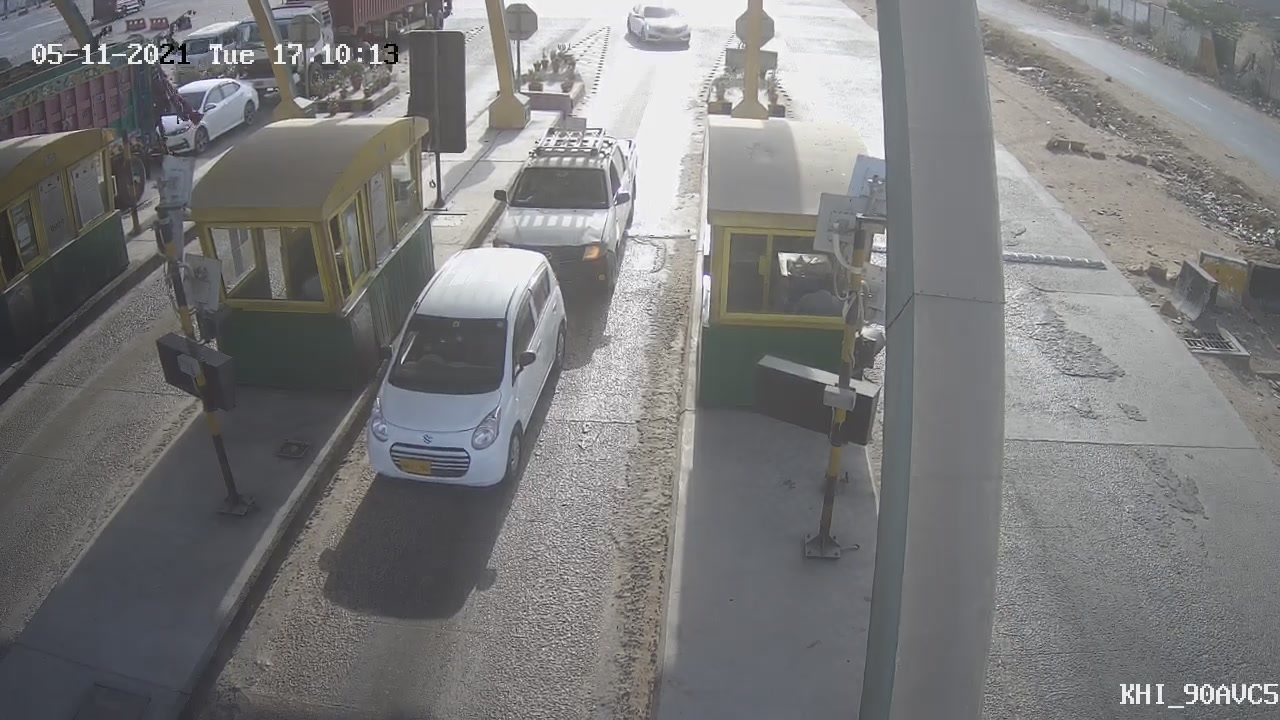F1: (339, 235, 600, 505), (473, 104, 655, 318)
